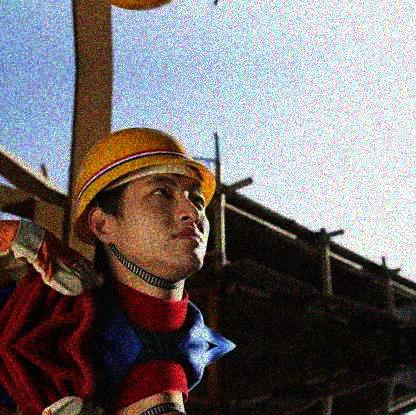helmet: (71, 124, 219, 278)
